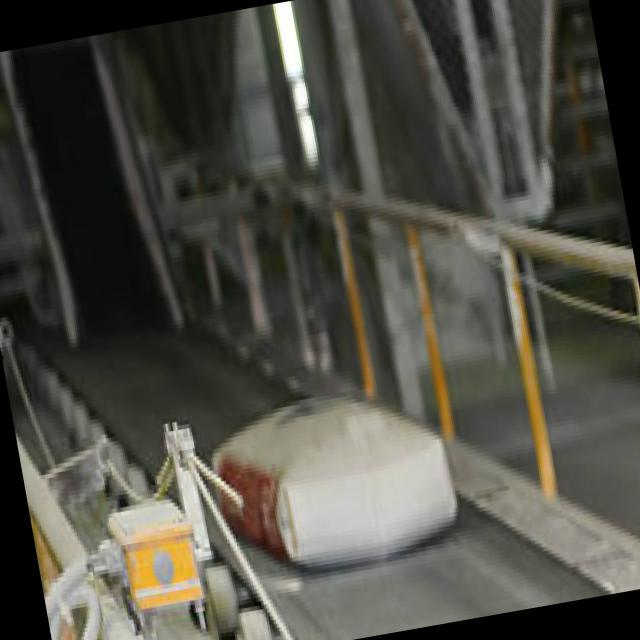KantongSemen: (199, 368, 464, 585)
